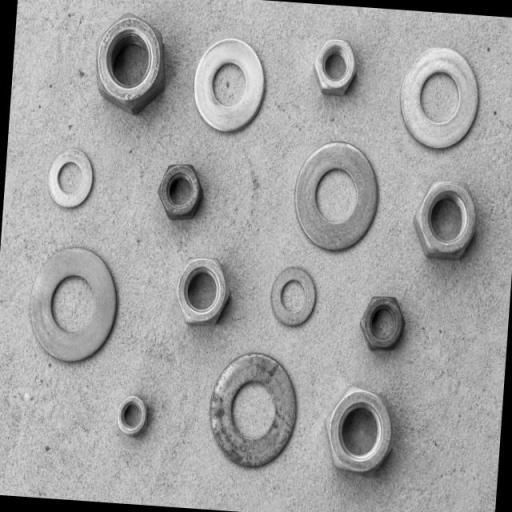Nut: (95, 14, 166, 115), (326, 387, 394, 476), (413, 180, 478, 261), (176, 256, 231, 326), (157, 163, 203, 221), (359, 295, 406, 351), (314, 38, 358, 97), (117, 395, 150, 438)
Washer: (208, 351, 300, 471), (29, 246, 119, 364), (293, 141, 380, 253), (399, 46, 481, 151), (193, 38, 266, 134), (270, 266, 318, 329), (47, 148, 95, 210)
